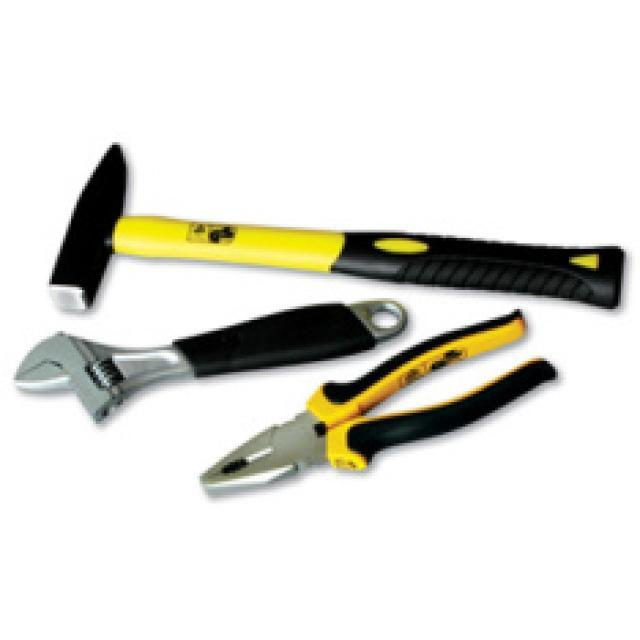hammer: (39, 134, 626, 330)
pliers: (192, 303, 572, 502)
wrench: (3, 300, 423, 422)
